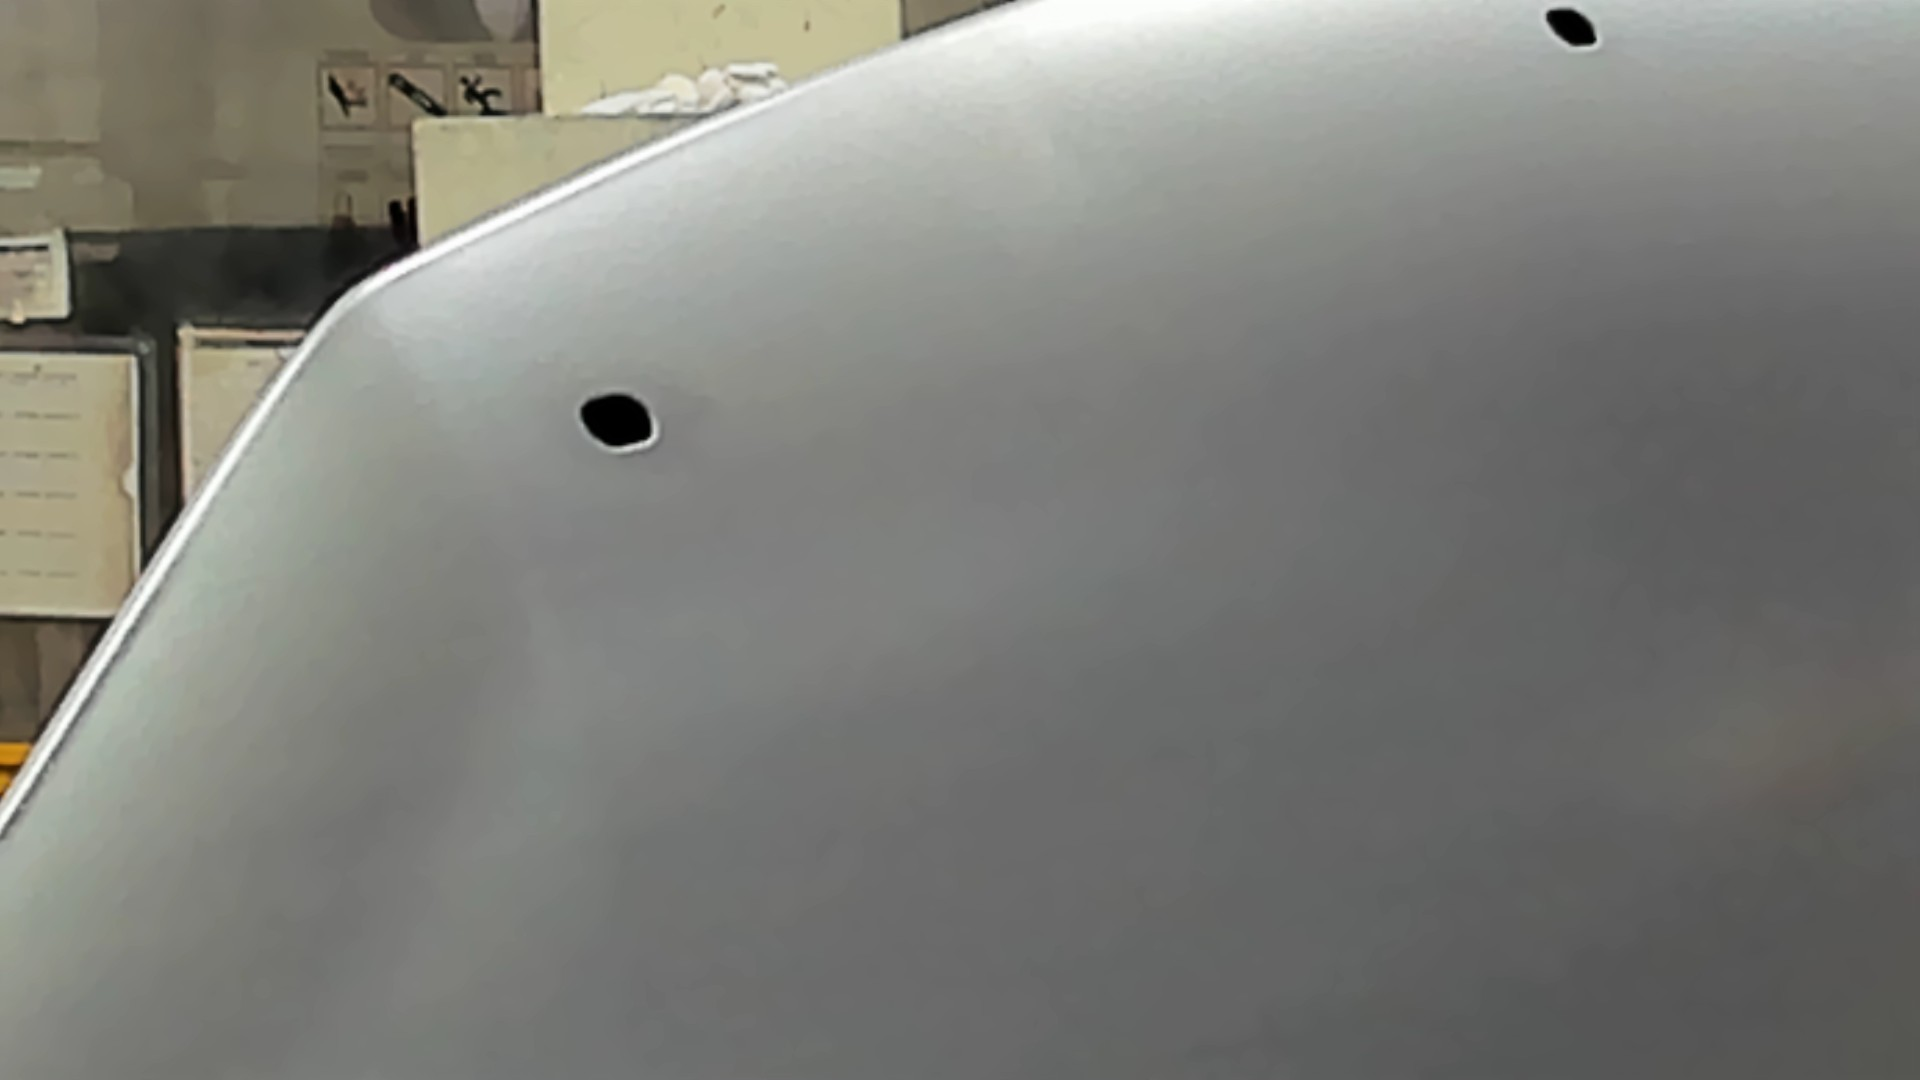amorfo: (571, 386, 669, 455), (1534, 1, 1604, 55)
capo: (827, 112, 1920, 1080)
